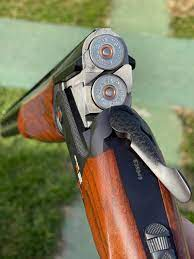weapon: (1, 29, 191, 258)
